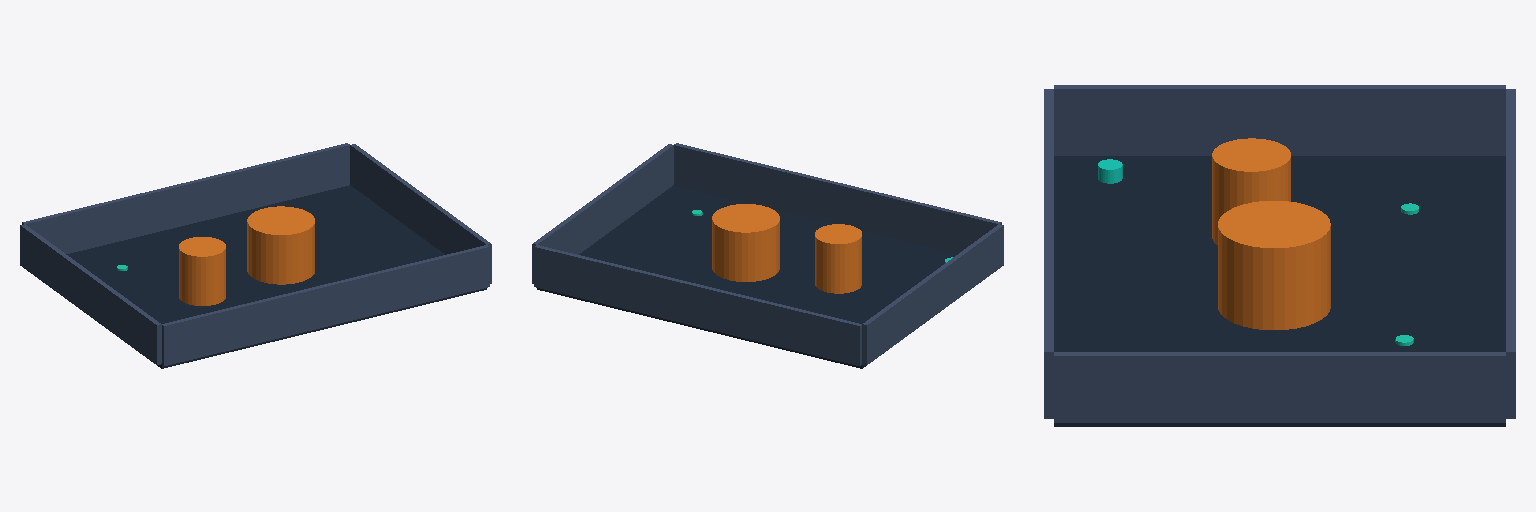
robot.urdf — veab_campus-patrol:
<?xml version='1.0' encoding='utf-8'?>
<robot name="veab_campus-patrol"><link name="world" /><link name="factory-floor"><visual><origin xyz="0 0 0" rpy="0 0 0" /><geometry><box size="11 8 0.15" /></geometry><material name="mat_factory-floor"><color rgba="0.16 0.21 0.27 1" /></material></visual><collision><origin xyz="0 0 0" rpy="0 0 0" /><geometry><box size="11 8 0.15" /></geometry></collision><inertial><origin xyz="0 0 0" rpy="0 0 0" /><mass value="1.0" /><inertia ixx="0.12" iyy="0.12" izz="0.12" ixy="0" ixz="0" iyz="0" /></inertial></link><joint name="anchor_factory-floor" type="fixed"><parent link="world" /><child link="factory-floor" /><origin xyz="5.5 4 -0.075" rpy="0 0 0" /></joint><link name="west-boundary"><visual><origin xyz="0 0 0" rpy="0 0 0" /><geometry><box size="0.16 8 1.3" /></geometry><material name="mat_west-boundary"><color rgba="0.3 0.36 0.46 0.68" /></material></visual><collision><origin xyz="0 0 0" rpy="0 0 0" /><geometry><box size="0.16 8 1.3" /></geometry></collision><inertial><origin xyz="0 0 0" rpy="0 0 0" /><mass value="1.0" /><inertia ixx="0.12" iyy="0.12" izz="0.12" ixy="0" ixz="0" iyz="0" /></inertial></link><joint name="anchor_west-boundary" type="fixed"><parent link="world" /><child link="west-boundary" /><origin xyz="-0.08 4 0.65" rpy="0 0 0" /></joint><link name="east-boundary"><visual><origin xyz="0 0 0" rpy="0 0 0" /><geometry><box size="0.16 8 1.3" /></geometry><material name="mat_east-boundary"><color rgba="0.3 0.36 0.46 0.68" /></material></visual><collision><origin xyz="0 0 0" rpy="0 0 0" /><geometry><box size="0.16 8 1.3" /></geometry></collision><inertial><origin xyz="0 0 0" rpy="0 0 0" /><mass value="1.0" /><inertia ixx="0.12" iyy="0.12" izz="0.12" ixy="0" ixz="0" iyz="0" /></inertial></link><joint name="anchor_east-boundary" type="fixed"><parent link="world" /><child link="east-boundary" /><origin xyz="11.08 4 0.65" rpy="0 0 0" /></joint><link name="south-boundary"><visual><origin xyz="0 0 0" rpy="0 0 0" /><geometry><box size="11 0.16 1.3" /></geometry><material name="mat_south-boundary"><color rgba="0.3 0.36 0.46 0.68" /></material></visual><collision><origin xyz="0 0 0" rpy="0 0 0" /><geometry><box size="11 0.16 1.3" /></geometry></collision><inertial><origin xyz="0 0 0" rpy="0 0 0" /><mass value="1.0" /><inertia ixx="0.12" iyy="0.12" izz="0.12" ixy="0" ixz="0" iyz="0" /></inertial></link><joint name="anchor_south-boundary" type="fixed"><parent link="world" /><child link="south-boundary" /><origin xyz="5.5 -0.08 0.65" rpy="0 0 0" /></joint><link name="north-boundary"><visual><origin xyz="0 0 0" rpy="0 0 0" /><geometry><box size="11 0.16 1.3" /></geometry><material name="mat_north-boundary"><color rgba="0.3 0.36 0.46 0.68" /></material></visual><collision><origin xyz="0 0 0" rpy="0 0 0" /><geometry><box size="11 0.16 1.3" /></geometry></collision><inertial><origin xyz="0 0 0" rpy="0 0 0" /><mass value="1.0" /><inertia ixx="0.12" iyy="0.12" izz="0.12" ixy="0" ixz="0" iyz="0" /></inertial></link><joint name="anchor_north-boundary" type="fixed"><parent link="world" /><child link="north-boundary" /><origin xyz="5.5 8.08 0.65" rpy="0 0 0" /></joint><link name="planter"><visual><origin xyz="0 0 0" rpy="0 0 0" /><geometry><cylinder radius="0.7" length="1.6" /></geometry><material name="mat_planter"><color rgba="0.9 0.52 0.2 1" /></material></visual><collision><origin xyz="0 0 0" rpy="0 0 0" /><geometry><cylinder radius="0.7" length="1.6" /></geometry></collision><inertial><origin xyz="0 0 0" rpy="0 0 0" /><mass value="1.0" /><inertia ixx="0.12" iyy="0.12" izz="0.12" ixy="0" ixz="0" iyz="0" /></inertial></link><joint name="anchor_planter" type="fixed"><parent link="world" /><child link="planter" /><origin xyz="3.4 3.5 0.8" rpy="0 0 0" /></joint><link name="structure"><visual><origin xyz="0 0 0" rpy="0 0 0" /><geometry><cylinder radius="1.0" length="1.6" /></geometry><material name="mat_structure"><color rgba="0.9 0.52 0.2 1" /></material></visual><collision><origin xyz="0 0 0" rpy="0 0 0" /><geometry><cylinder radius="1.0" length="1.6" /></geometry></collision><inertial><origin xyz="0 0 0" rpy="0 0 0" /><mass value="1.0" /><inertia ixx="0.12" iyy="0.12" izz="0.12" ixy="0" ixz="0" iyz="0" /></inertial></link><joint name="anchor_structure" type="fixed"><parent link="world" /><child link="structure" /><origin xyz="6.3 3.9 0.8" rpy="0 0 0" /></joint><link name="checkpoint-1-west-crossing"><visual><origin xyz="0 0 0" rpy="0 0 0" /><geometry><cylinder radius="0.16" length="0.07" /></geometry><material name="mat_checkpoint-1-west-crossing"><color rgba="0.16 0.83 0.71 0.8" /></material></visual><inertial><origin xyz="0 0 0" rpy="0 0 0" /><mass value="1.0" /><inertia ixx="0.12" iyy="0.12" izz="0.12" ixy="0" ixz="0" iyz="0" /></inertial></link><joint name="anchor_checkpoint-1-west-crossing" type="fixed"><parent link="world" /><child link="checkpoint-1-west-crossing" /><origin xyz="2.3 6.3 0.035" rpy="0 0 0" /></joint><link name="checkpoint-2-east-crossing"><visual><origin xyz="0 0 0" rpy="0 0 0" /><geometry><cylinder radius="0.16" length="0.07" /></geometry><material name="mat_checkpoint-2-east-crossing"><color rgba="0.16 0.83 0.71 0.8" /></material></visual><inertial><origin xyz="0 0 0" rpy="0 0 0" /><mass value="1.0" /><inertia ixx="0.12" iyy="0.12" izz="0.12" ixy="0" ixz="0" iyz="0" /></inertial></link><joint name="anchor_checkpoint-2-east-crossing" type="fixed"><parent link="world" /><child link="checkpoint-2-east-crossing" /><origin xyz="7.8 6.2 0.035" rpy="0 0 0" /></joint><link name="checkpoint-3-finish"><visual><origin xyz="0 0 0" rpy="0 0 0" /><geometry><cylinder radius="0.16" length="0.07" /></geometry><material name="mat_checkpoint-3-finish"><color rgba="0.16 0.83 0.71 0.8" /></material></visual><inertial><origin xyz="0 0 0" rpy="0 0 0" /><mass value="1.0" /><inertia ixx="0.12" iyy="0.12" izz="0.12" ixy="0" ixz="0" iyz="0" /></inertial></link><joint name="anchor_checkpoint-3-finish" type="fixed"><parent link="world" /><child link="checkpoint-3-finish" /><origin xyz="9.4 1.4 0.035" rpy="0 0 0" /></joint><link name="robot"><visual><origin xyz="0 0 0" rpy="0 0 0" /><geometry><cylinder radius="0.22" length="0.27" /></geometry><material name="mat_robot"><color rgba="0.12 0.83 0.76 1" /></material></visual><collision><origin xyz="0 0 0" rpy="0 0 0" /><geometry><cylinder radius="0.22" length="0.27" /></geometry></collision><inertial><origin xyz="0 0 0" rpy="0 0 0" /><mass value="8.0" /><inertia ixx="0.12" iyy="0.12" izz="0.12" ixy="0" ixz="0" iyz="0" /></inertial></link><joint name="anchor_robot" type="fixed"><parent link="world" /><child link="robot" /><origin xyz="1 1 0.16" rpy="0 0 0" /></joint></robot>

--- What the picture shows (computed from the rendered views, not written in the file) ---
Views: 3 orthographic renders of the robot side by side, from view 1: azimuth 30°, elevation 25°; view 2: azimuth 150°, elevation 25°; view 3: azimuth 270°, elevation 25°.
Robot: veab_campus-patrol — 12 links, 11 joints (11 fixed); root link world; default pose: all joints at 0.
Links seen in each view (by area): view 1: factory-floor, south-boundary, north-boundary, west-boundary, east-boundary, structure, planter; view 2: factory-floor, north-boundary, south-boundary, west-boundary, east-boundary, structure, planter; view 3: factory-floor, east-boundary, west-boundary, structure, planter, south-boundary, north-boundary, robot.
Link boxes in pixels (<box>): factory-floor: <box>43,185,486,368</box>; south-boundary: <box>162,245,489,365</box>; north-boundary: <box>22,143,349,253</box>; west-boundary: <box>20,224,161,364</box>; east-boundary: <box>350,144,491,283</box>; structure: <box>247,206,314,284</box>; planter: <box>179,237,225,305</box>; factory-floor: <box>537,185,980,368</box>; north-boundary: <box>534,245,861,365</box>; south-boundary: <box>674,143,1001,253</box>; west-boundary: <box>862,224,1003,364</box>; east-boundary: <box>532,144,673,283</box>; structure: <box>712,204,779,281</box>; planter: <box>815,224,861,293</box>; factory-floor: <box>1054,156,1505,426</box>; east-boundary: <box>1054,352,1505,422</box>; west-boundary: <box>1054,85,1505,155</box>; structure: <box>1218,201,1330,329</box>; planter: <box>1212,138,1290,244</box>; south-boundary: <box>1044,89,1053,418</box>; north-boundary: <box>1506,89,1515,418</box>; robot: <box>1098,159,1122,183</box>.
Bounding box of the posed robot: 11.32 × 8.32 × 1.75 m (x, y, z).
Geometry: primitives only (box / cylinder / sphere), no mesh files.
